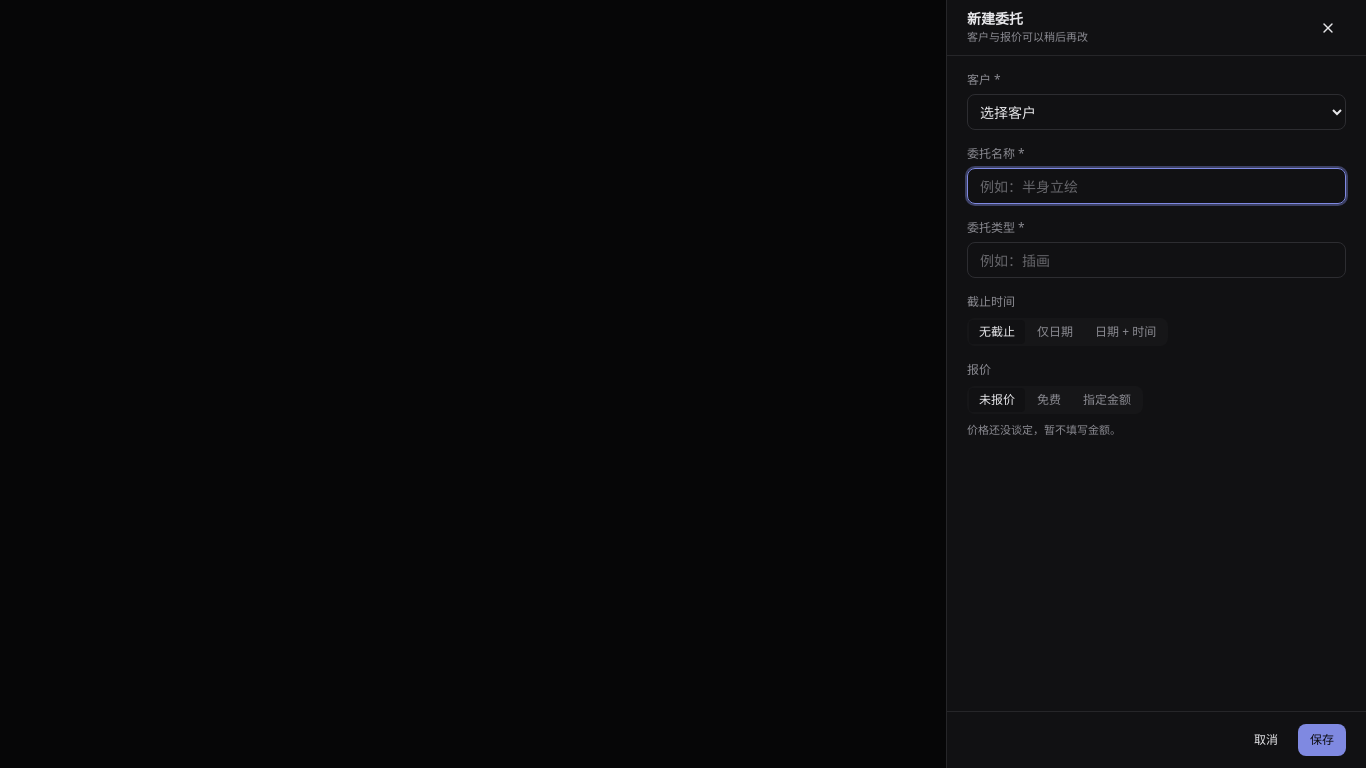
Test case: 委托表单：截止时间三态 › 日期 + 时间缺少时间时阻止提交
The image size is (1366, 768).
Select "小夏" in the dropdown labelled "客户 *": (1156, 112) [967,94,1346,130]
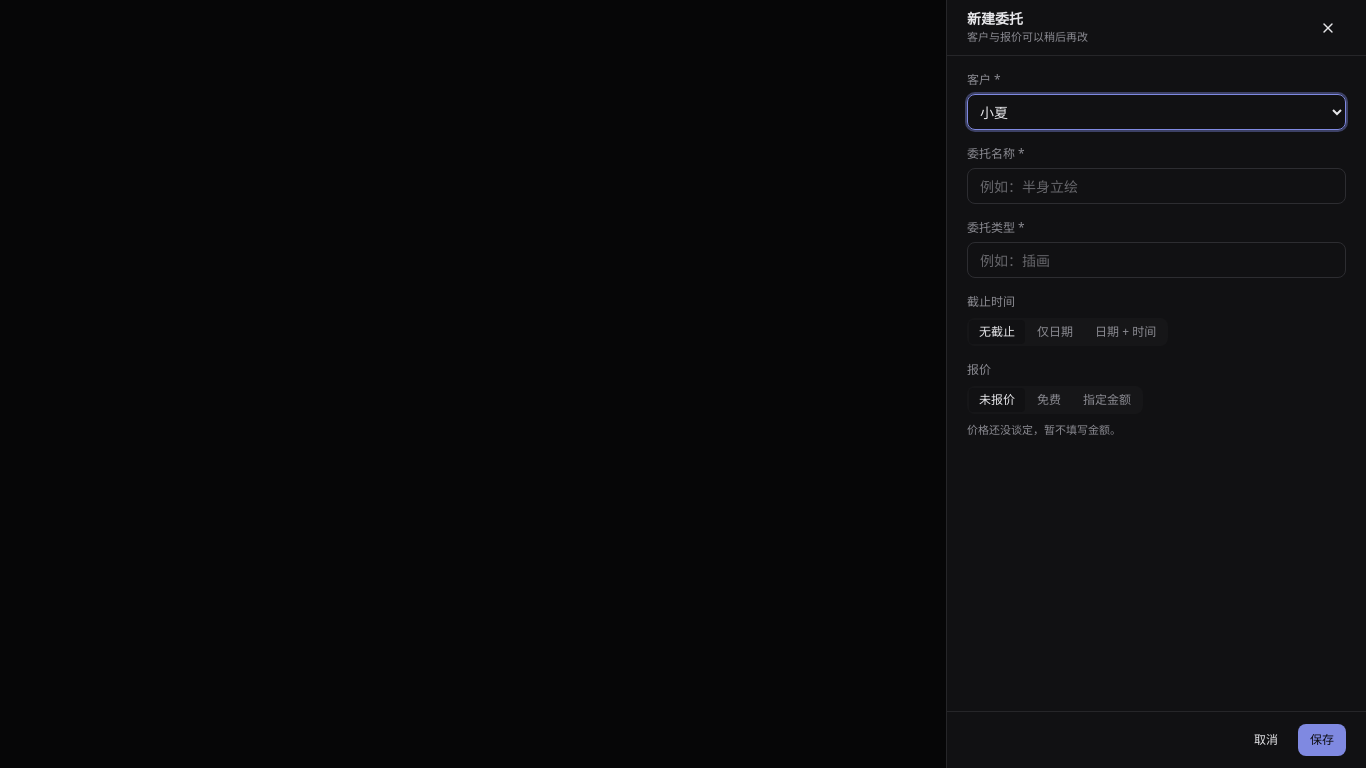
In the field labelled "委托名称 *": (1156, 186) [967,168,1346,204], type "x"
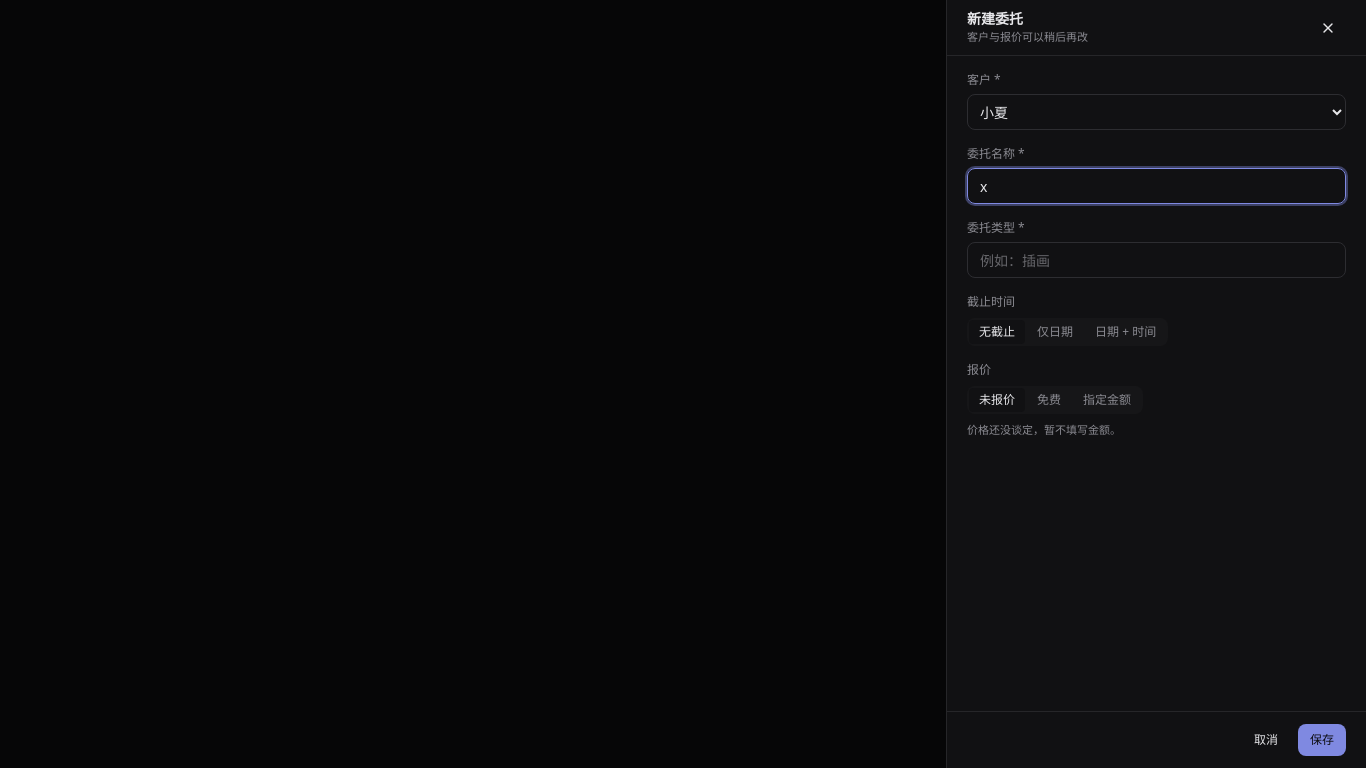
In the field labelled "委托类型 *": (1156, 260) [967,242,1346,278], type "y"
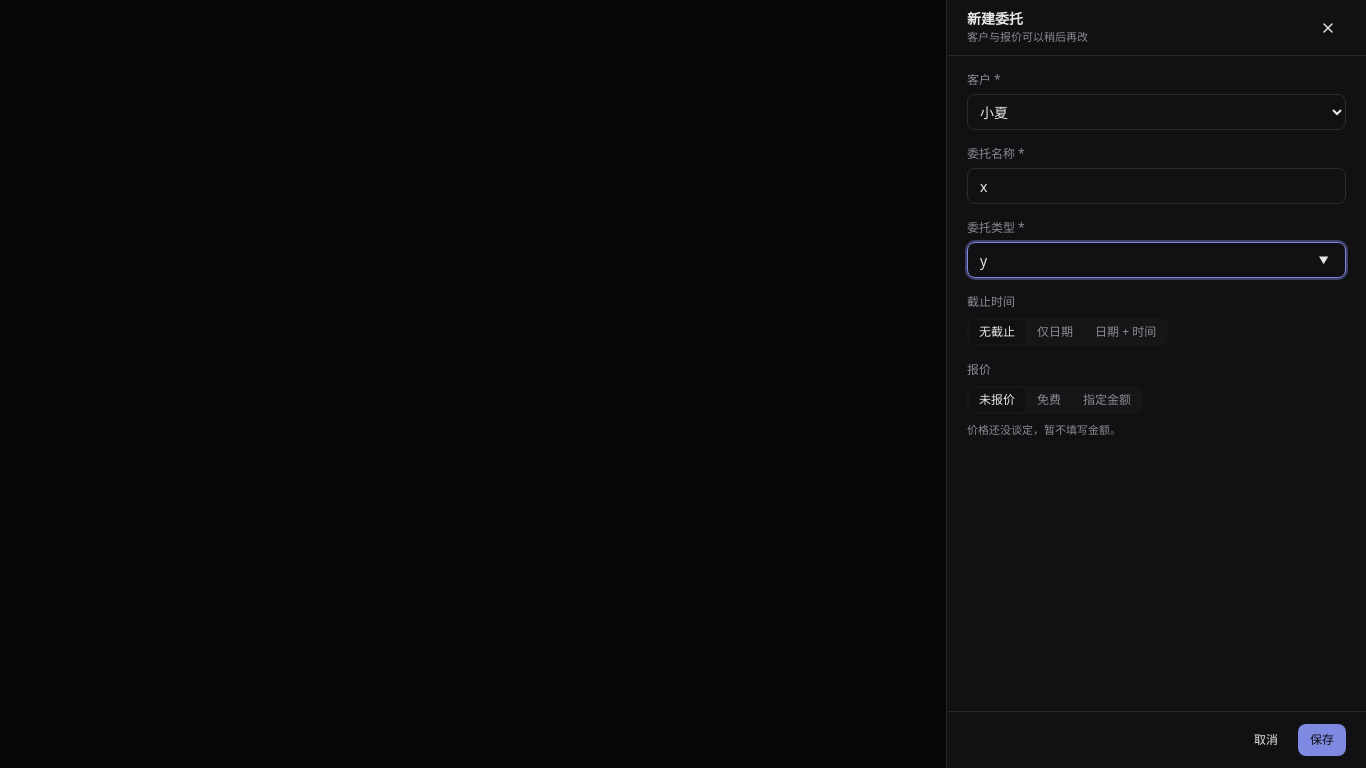
Click the radio button labelled "日期 + 时间": (1126, 332) [1085,320,1166,344]
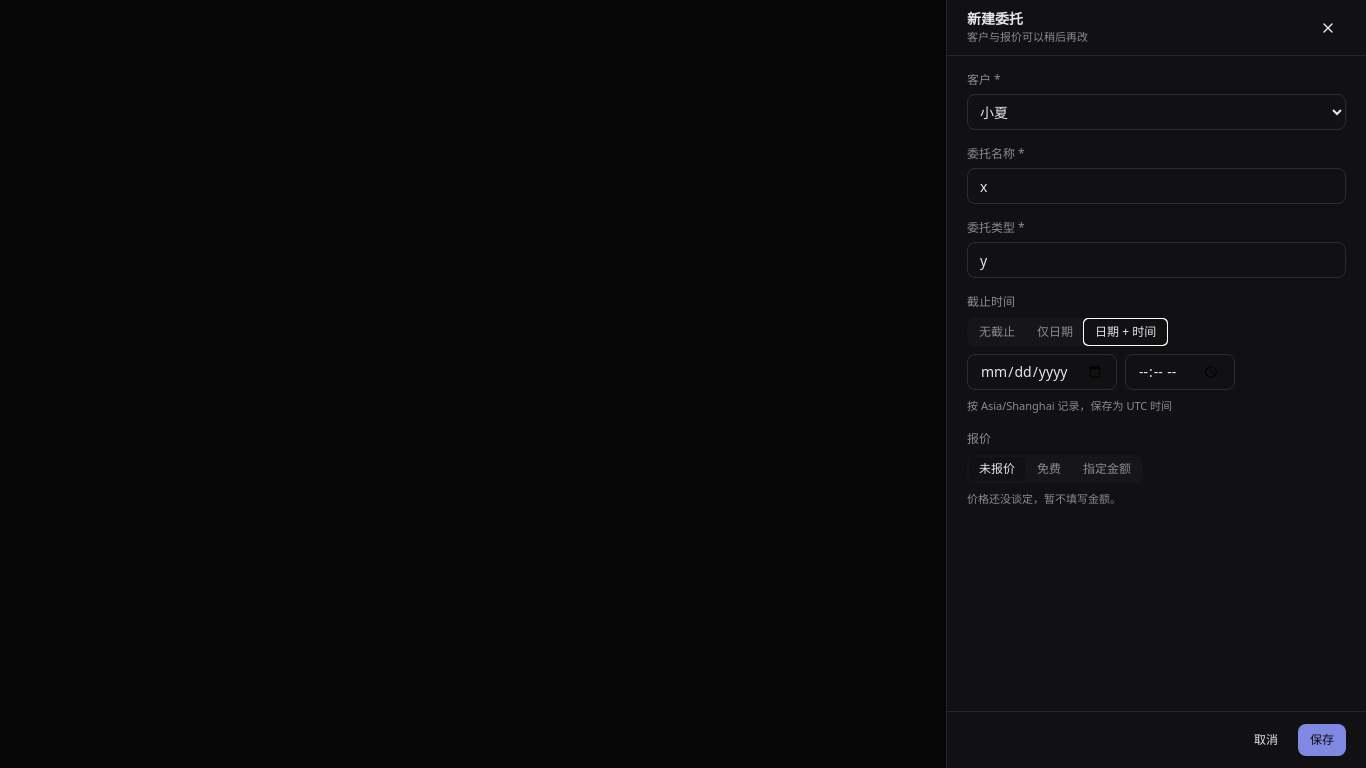
In the date field named "截止日期": (1042, 372) [967,354,1117,390], type "2026-12-31"
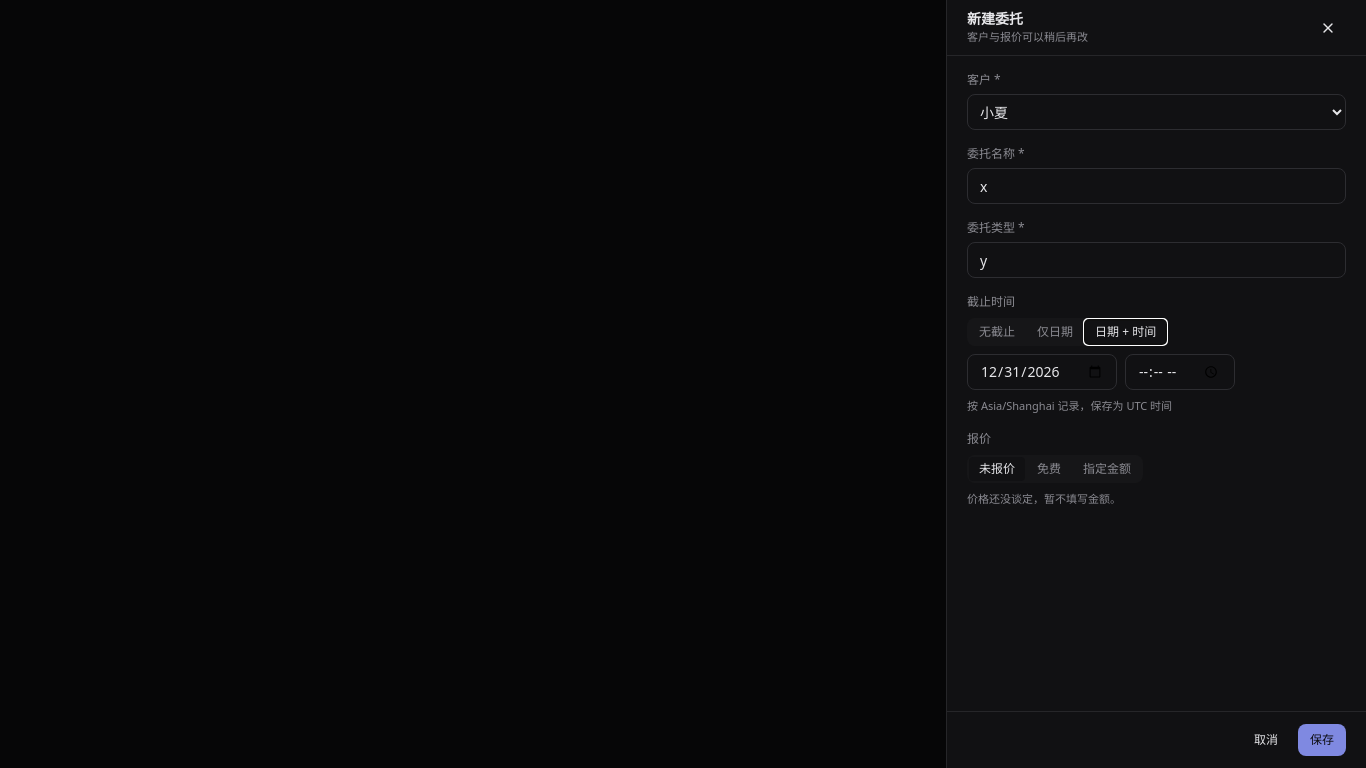
Click the button "保存": (1322, 740) [1298,724,1346,756]
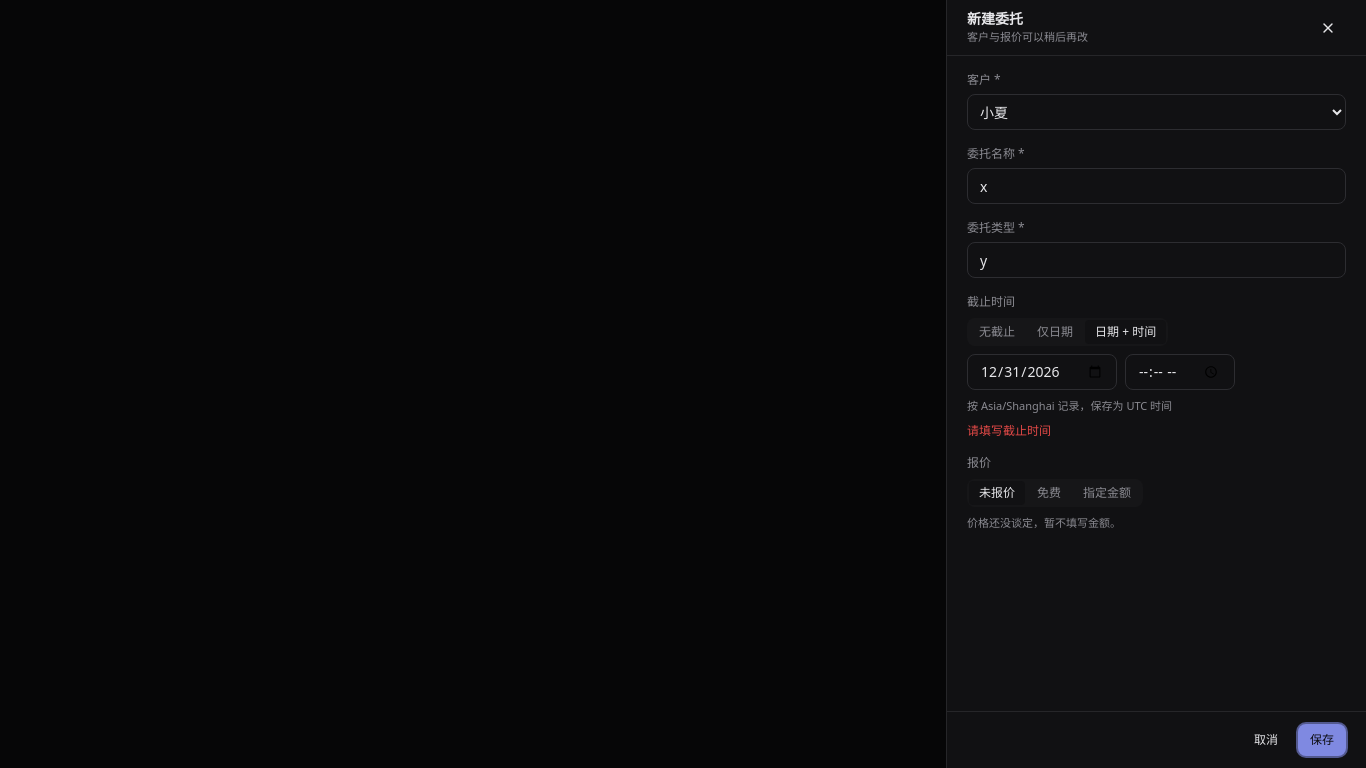
Check: the text "请填写截止时间" is shown, box [967,422,1051,438]
